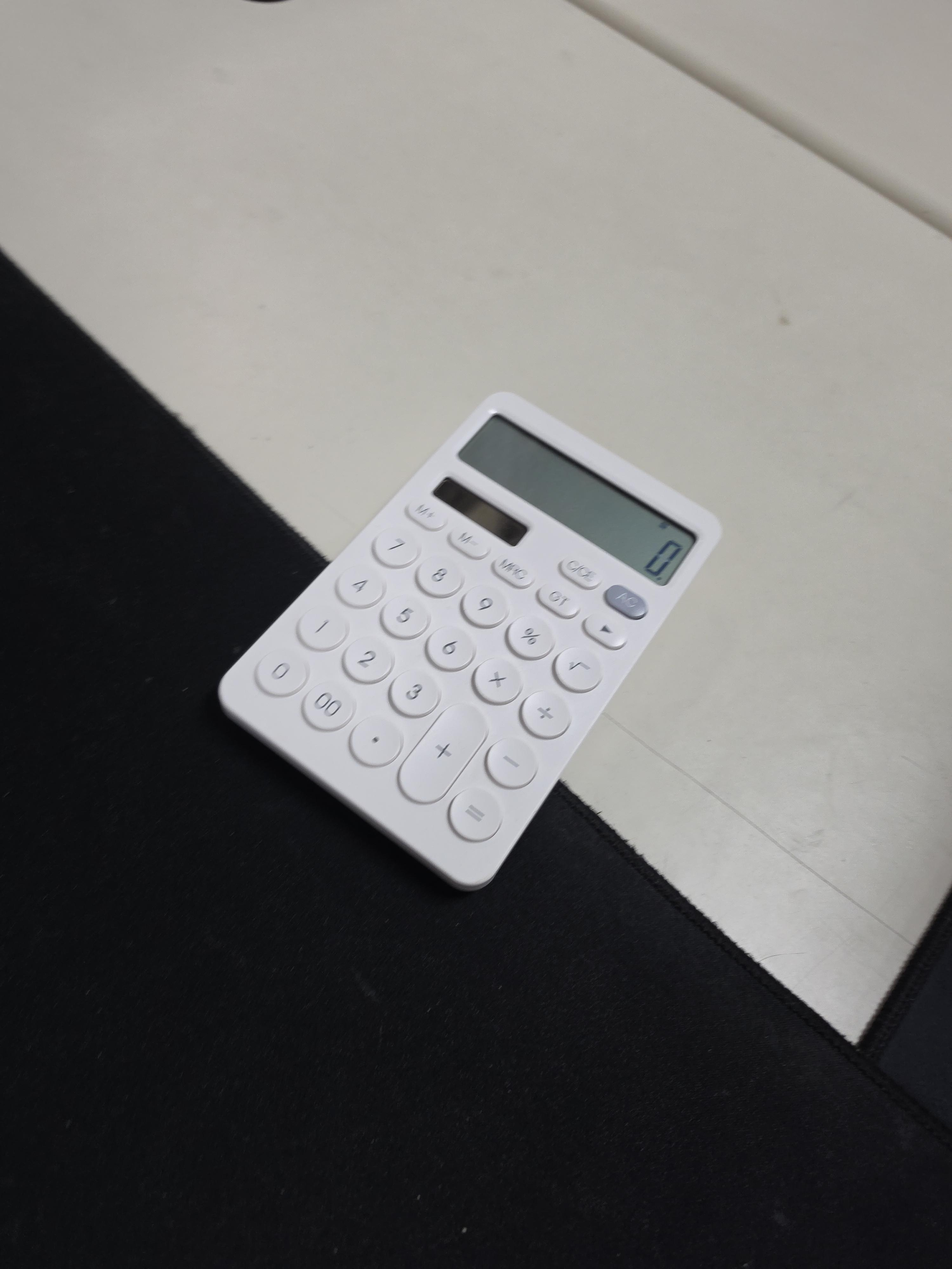calculator: (217, 391, 721, 892)
